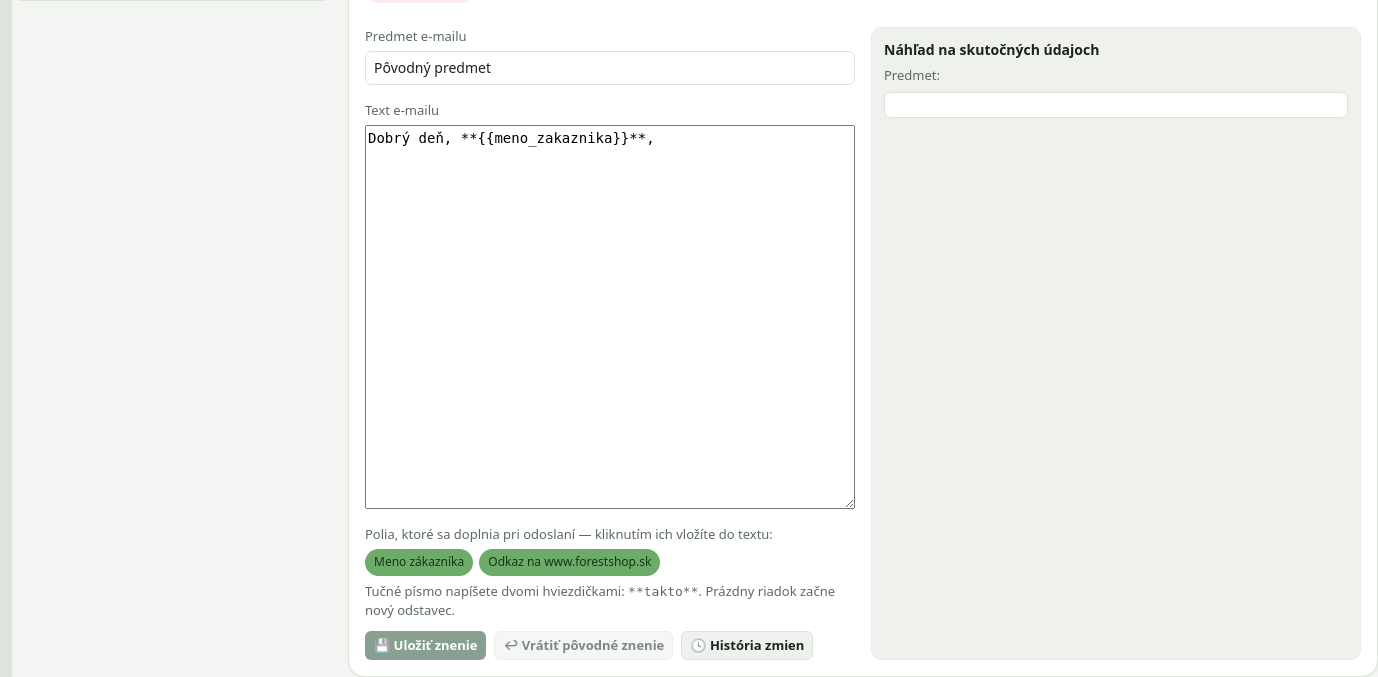
Test: história zmien sa načíta na požiadanie
(page scrolled)
Click the button with test id "mail-template-history-load". click: coordinates (747, 645)
box: [681,631,813,660]
(page scrolled)
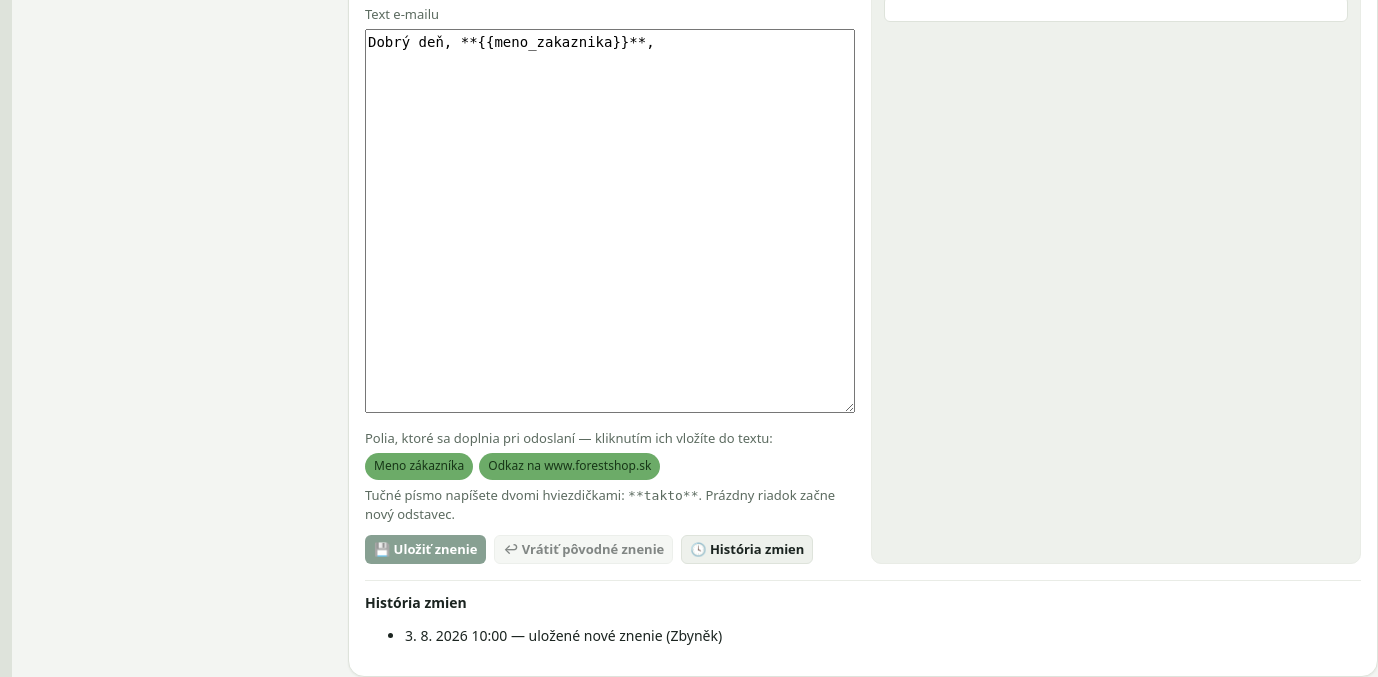
Expected: the element with test id "mail-template-history" is shown, [365,580,1361,646]
Expected: the list item "3. 8. 2026 10:00 — uložené nové znenie (Zbyněk)" is shown, [405,626,722,645]
